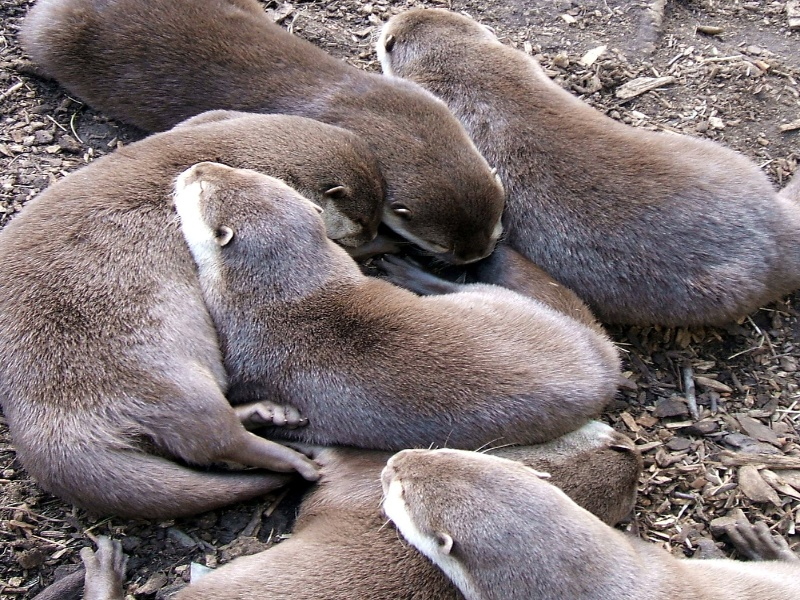minkish: (1, 103, 384, 507), (166, 156, 633, 451), (360, 7, 800, 314), (36, 1, 501, 262), (49, 411, 644, 600), (368, 438, 789, 600)
